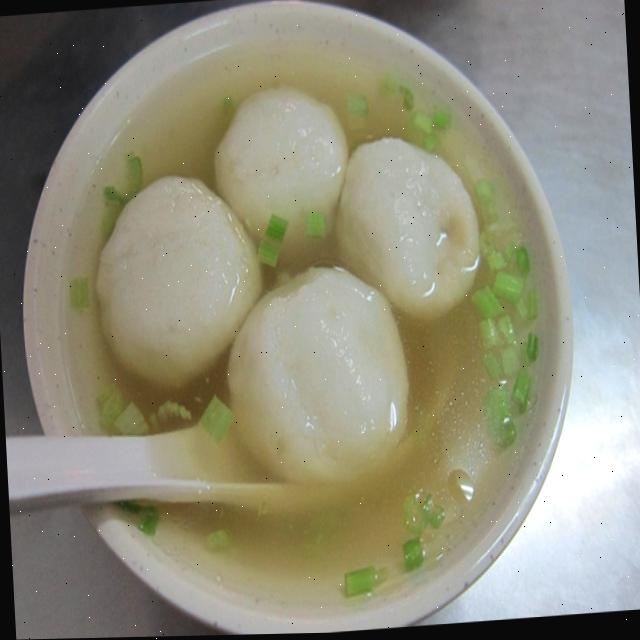熟制海鲜: (15, 0, 578, 640)
